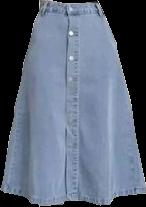Hemline: (0, 188, 145, 206)
Waistline: (39, 10, 104, 16), (43, 0, 97, 6)
